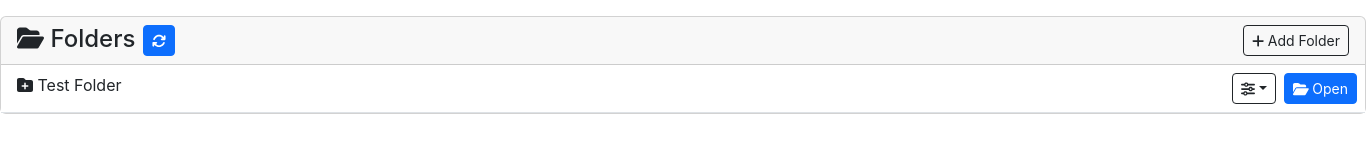
Test: Folders Component › testing updateFolders() button › testing try and catch on imapCheckOrConnect()
Click the button without text next to "Folders" at x=159, y=40, box [143,25,175,56]
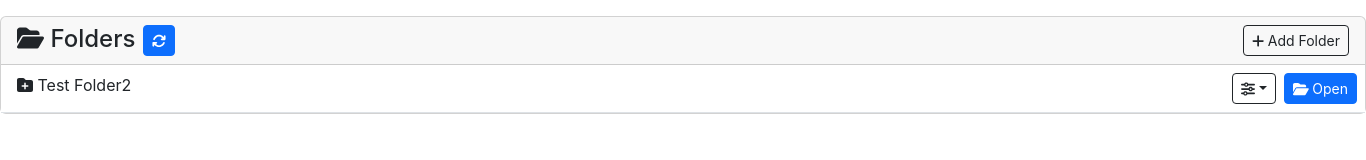
Check: the text "Test Folder2" is shown, box [17,75,131,95]
